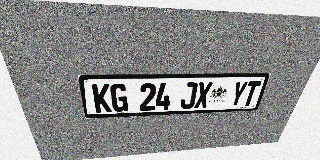2: (140, 83, 156, 111)
4: (155, 83, 172, 110)
G: (110, 83, 128, 112)
J: (180, 82, 198, 109)
K: (92, 84, 112, 113)
T: (241, 81, 262, 106)
X: (194, 82, 213, 108)
Y: (228, 81, 249, 107)
